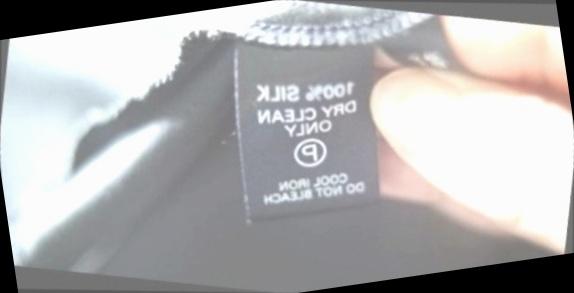dry_clean_any_solvent_except_trichloroethylene: (283, 127, 336, 177)
